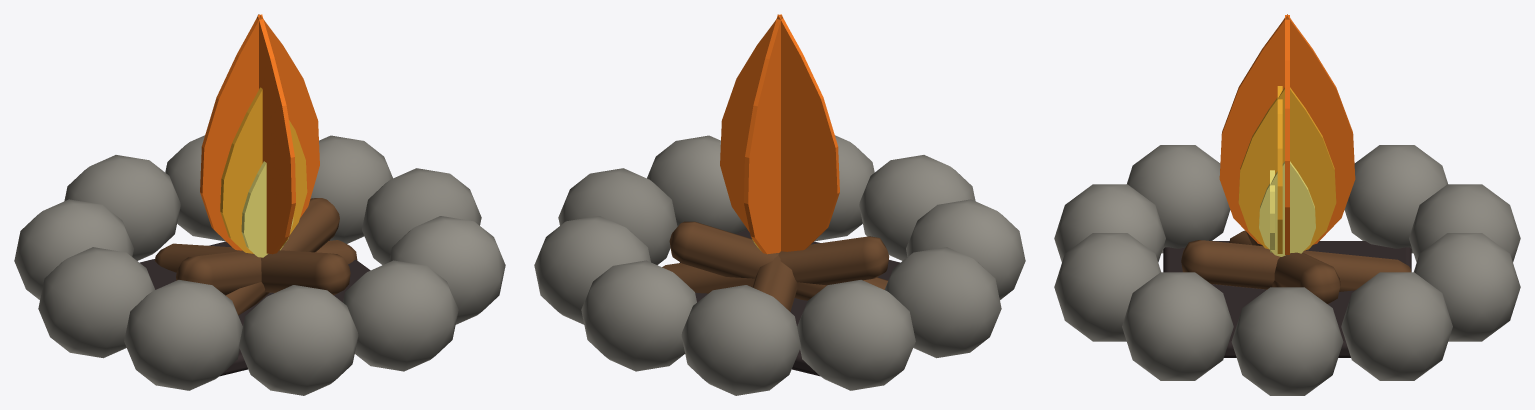
Rendered from furn_od_firepit.glb.
3 renders of one model, left to right at view 1: azimuth 30°, elevation 25°; view 2: azimuth 150°, elevation 25°; view 3: azimuth 270°, elevation 25°, orthographic.
Visible parts, largest first — view 1: furn_od_firepit_main, furn_od_firepit_glow; view 2: furn_od_firepit_main, furn_od_firepit_glow; view 3: furn_od_firepit_main, furn_od_firepit_glow.
Boxes of the visible parts, x1=… form: furn_od_firepit_main: x1=14, y1=135, x2=505, y2=395; furn_od_firepit_glow: x1=200, y1=14, x2=319, y2=257; furn_od_firepit_main: x1=534, y1=135, x2=1025, y2=395; furn_od_firepit_glow: x1=720, y1=14, x2=839, y2=254; furn_od_firepit_main: x1=1054, y1=145, x2=1520, y2=395; furn_od_firepit_glow: x1=1219, y1=14, x2=1355, y2=256.
Size of the model in its own units: 0.7902 by 0.533 by 0.7506.
